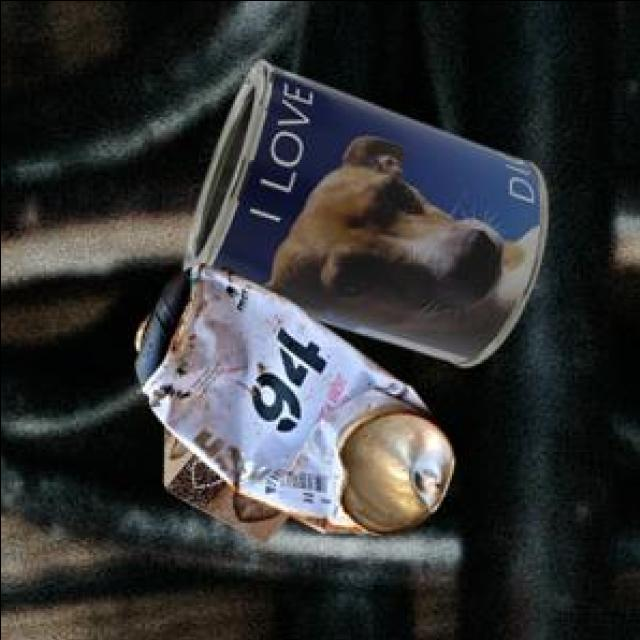logam: (186, 63, 549, 368), (139, 265, 456, 538), (166, 431, 291, 544)
